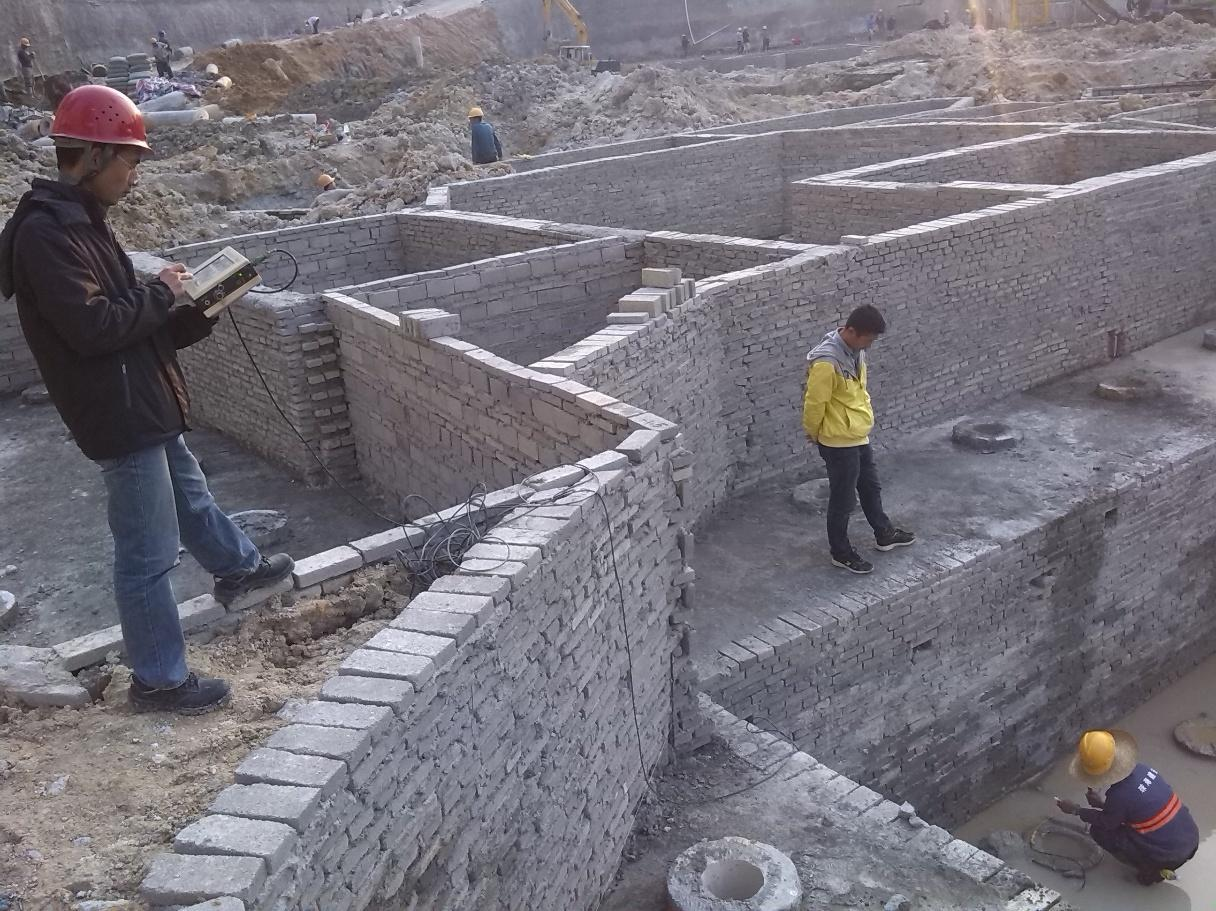helmet: (43, 60, 148, 159), (1062, 721, 1135, 786), (310, 165, 347, 191), (468, 95, 490, 123), (15, 35, 34, 46)
no-gloves: (160, 258, 197, 295), (1054, 793, 1085, 825)
no-helmet: (845, 303, 887, 334), (155, 29, 172, 40)
no-vest: (26, 213, 173, 460), (1103, 780, 1198, 863), (822, 355, 880, 449), (468, 126, 506, 160), (16, 49, 40, 80), (155, 36, 169, 63)
person: (6, 95, 203, 767), (775, 276, 920, 598), (1051, 707, 1206, 911), (445, 91, 511, 181), (6, 30, 53, 103), (296, 159, 357, 211), (147, 31, 179, 84)
shoes: (109, 673, 247, 737), (209, 544, 302, 600), (820, 535, 882, 581), (879, 518, 922, 549)
